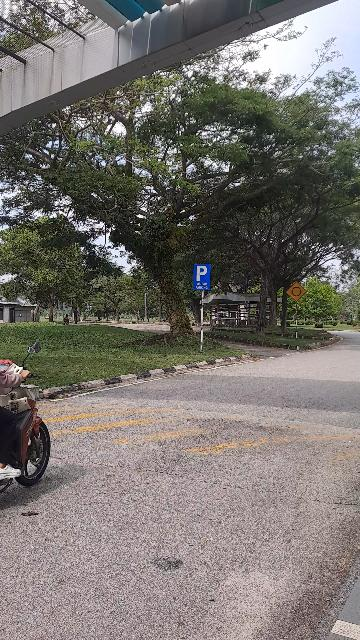motorcycle: (2, 333, 55, 509)
